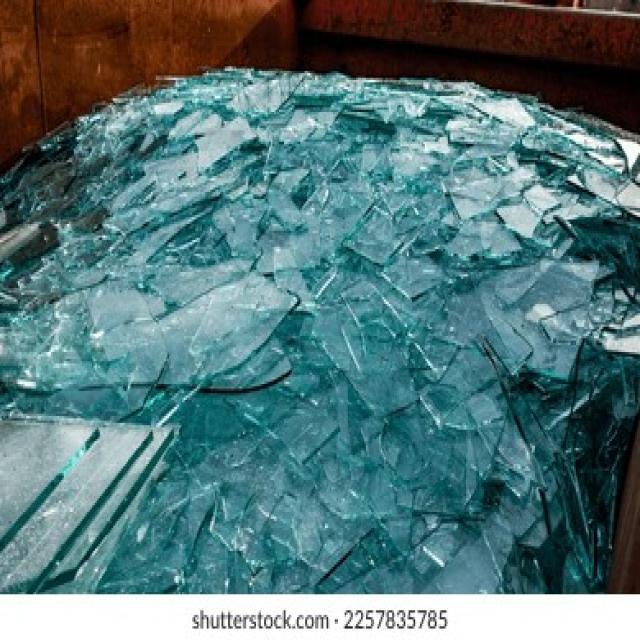glass: (164, 66, 589, 562)
